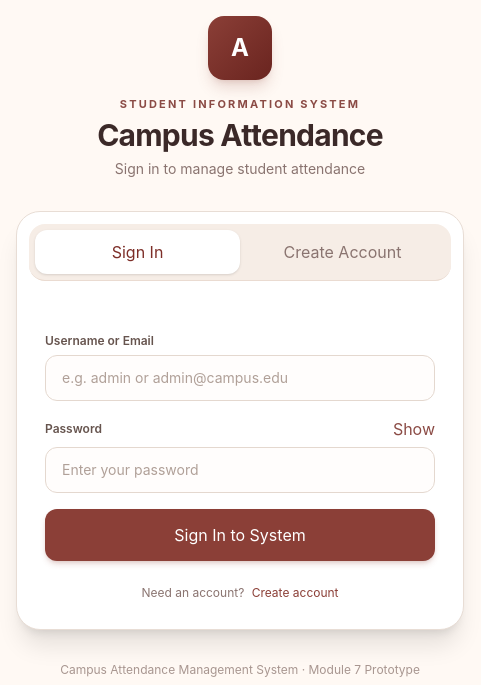
Test: AuthView › switches between Login and Register tabs
Click the button "Create Account" at (342, 252), box [240,230,445,274]
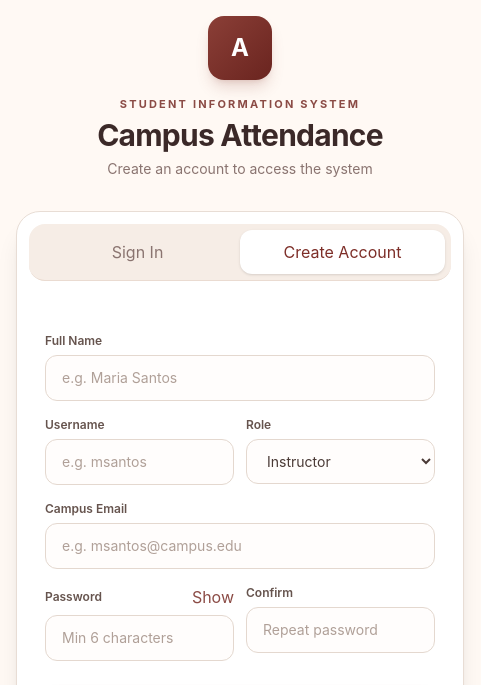
Expected: the field named "Full Name" is shown, [45,354,435,400]
Result: the text "Create an account to access the system" is shown at [107,160,373,176]
Click the button "Sign In" at (138, 252), box [35,230,240,274]
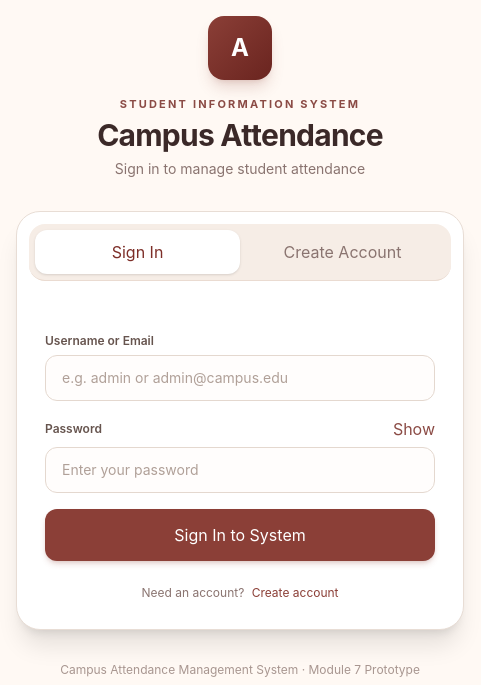
Result: the text "Sign in to manage student attendance" is shown at [115,160,365,176]
